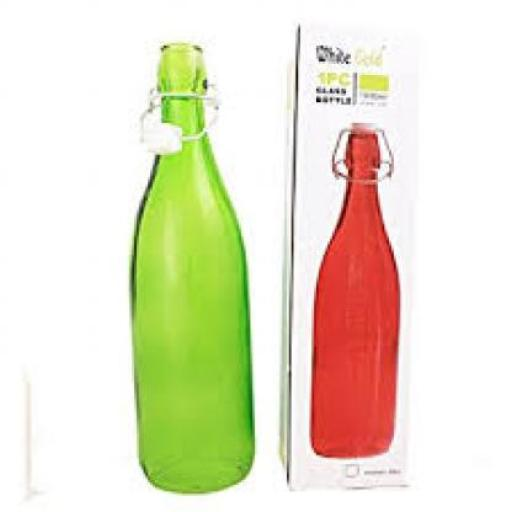glass: (128, 41, 252, 492), (307, 125, 396, 455)
